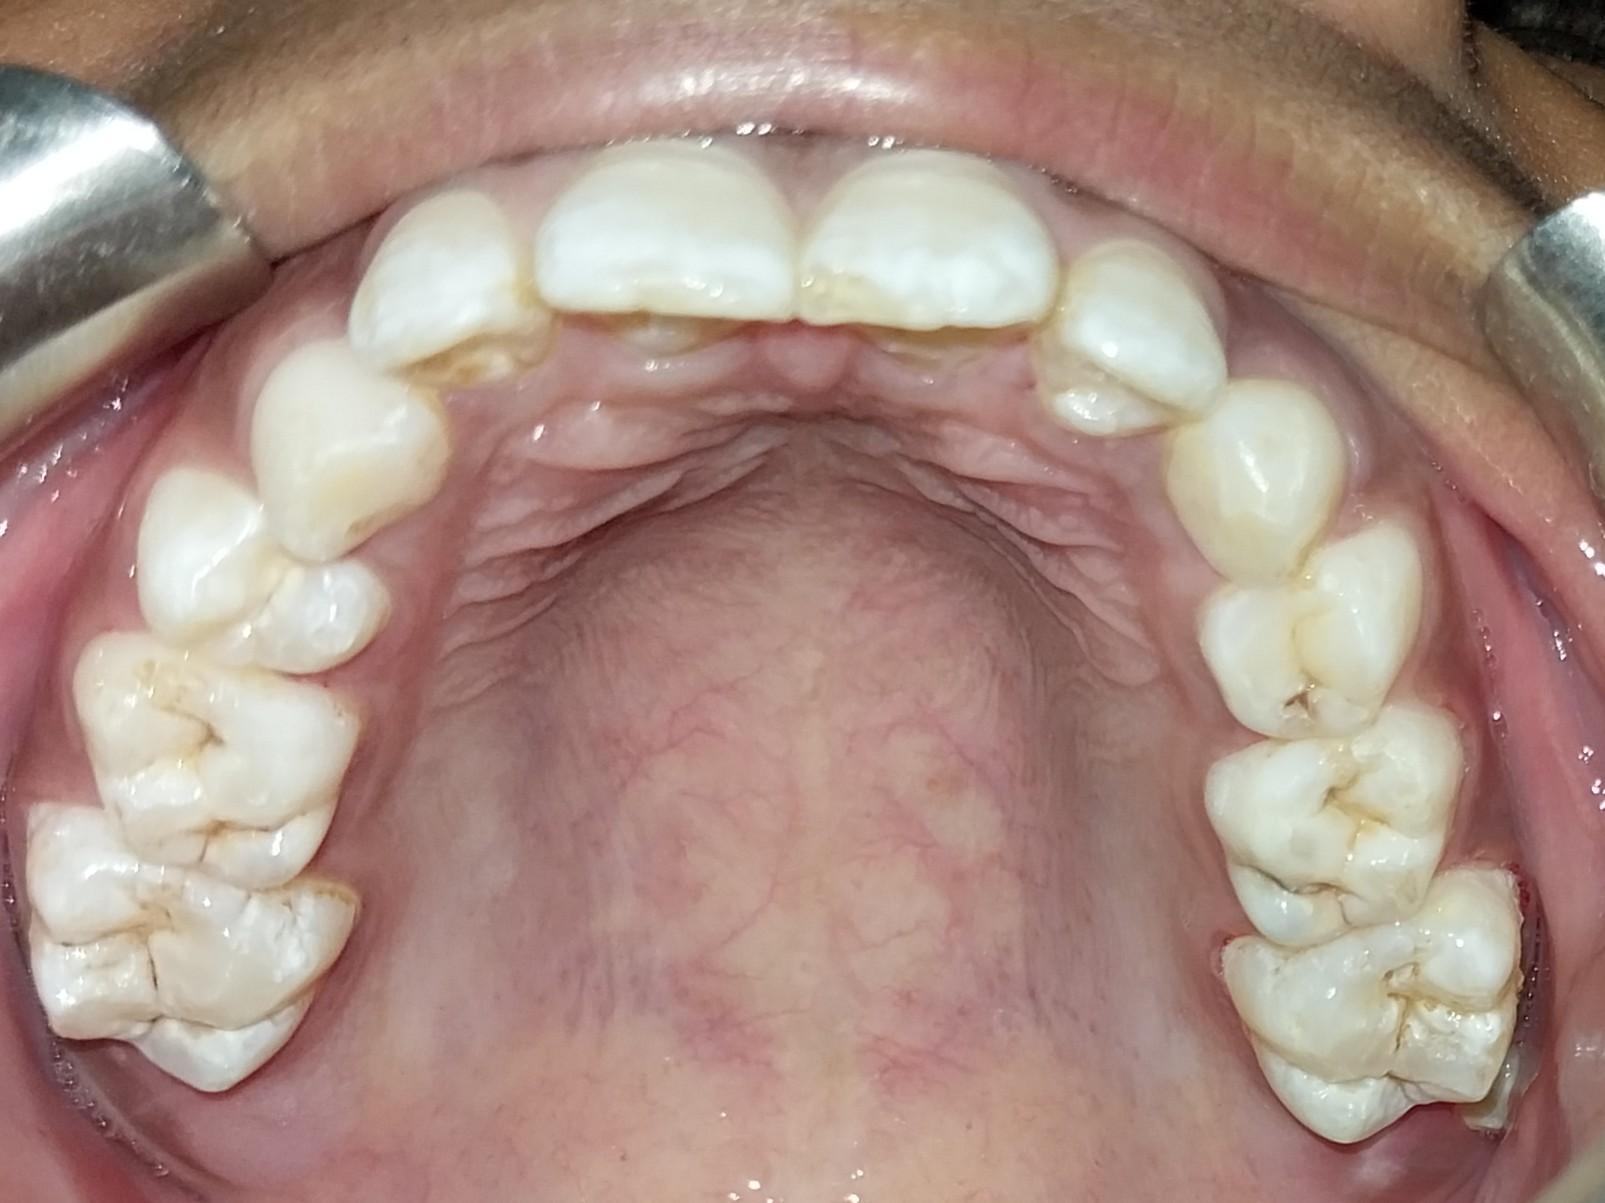d: (1201, 537, 1421, 735)
